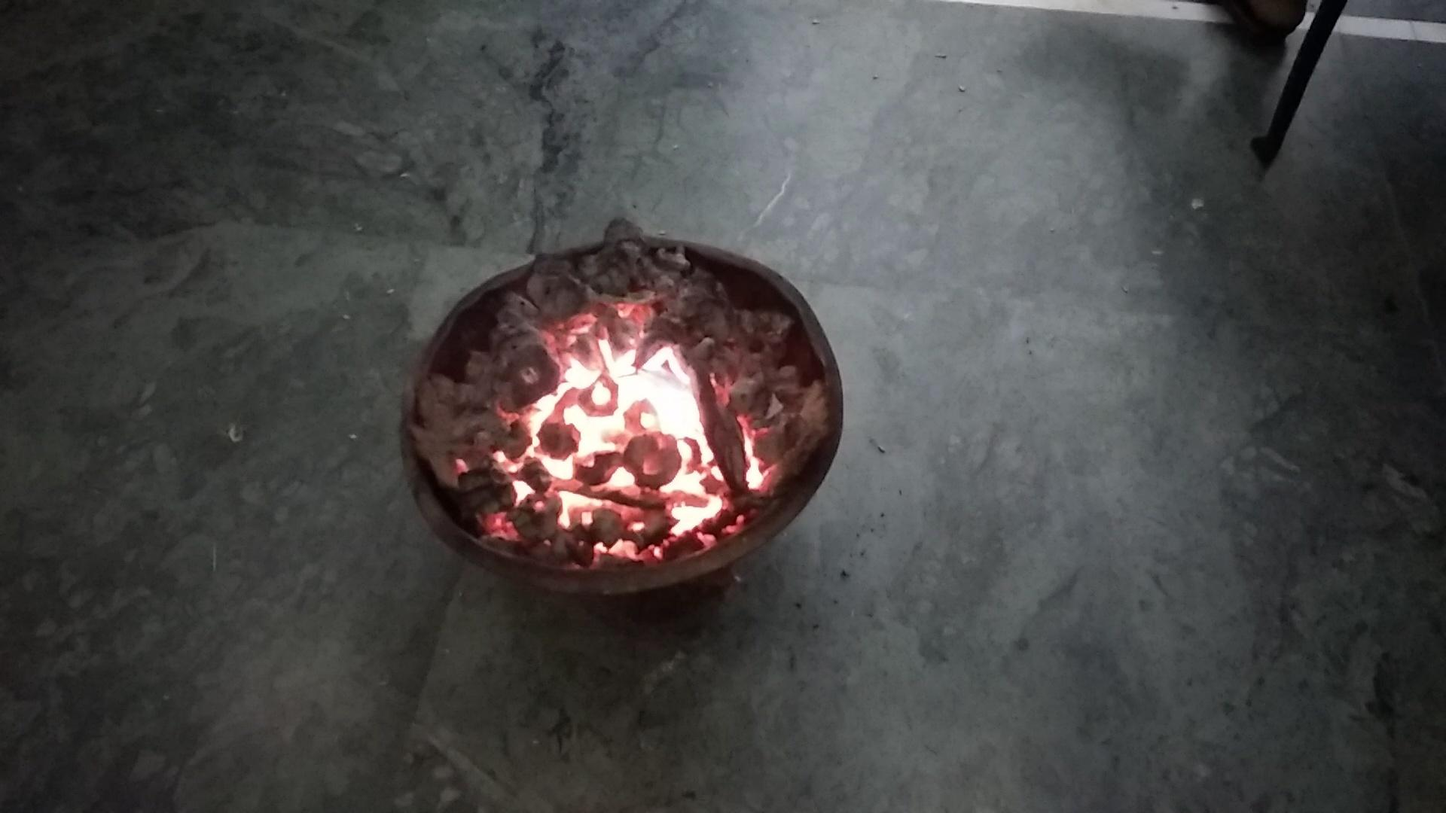fire: (427, 201, 782, 562)
